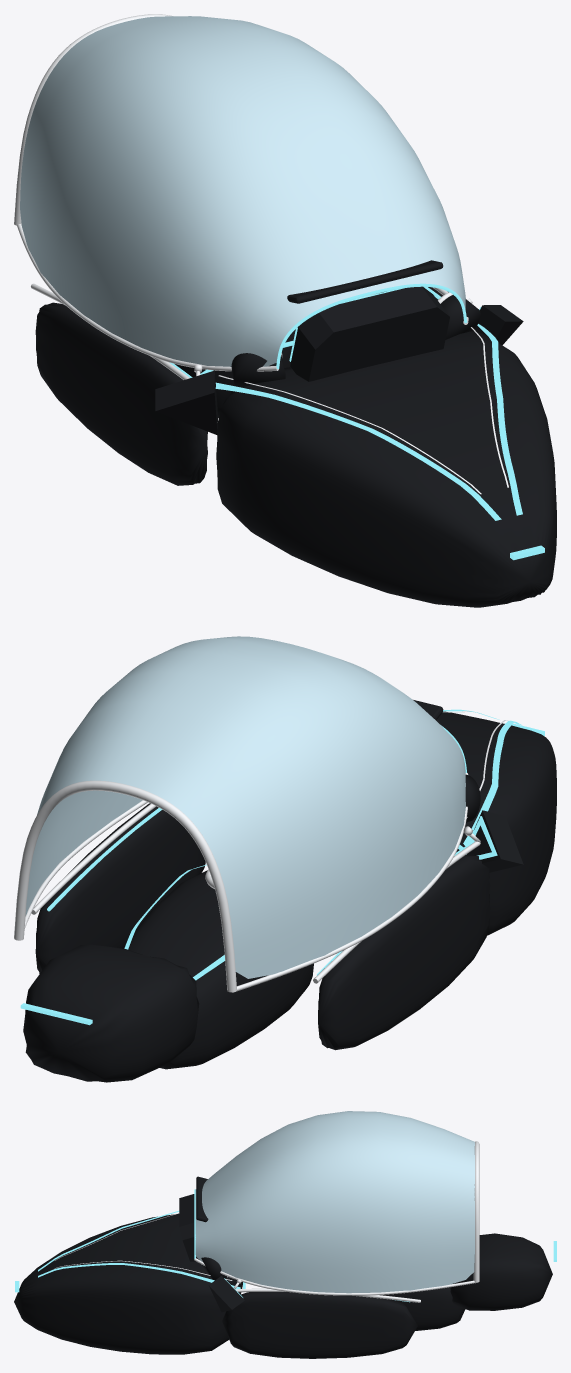
File: cockpit-v3.glb
3 views of the same model, one above another, from view 1: azimuth 30°, elevation 25°; view 2: azimuth 150°, elevation 25°; view 3: azimuth 270°, elevation 25° (orthographic). The views are drawn at different scales.
Visible parts, largest first — view 1: Canopy, Body, Trim, Chrome; view 2: Canopy, Body, Trim, Chrome; view 3: Canopy, Body, Trim, Chrome.
Boxes of the visible parts, bbox=[...] form: Canopy: bbox=[14, 14, 468, 371]; Body: bbox=[35, 260, 556, 607]; Trim: bbox=[169, 286, 544, 560]; Chrome: bbox=[31, 283, 508, 494]; Canopy: bbox=[14, 636, 468, 992]; Body: bbox=[23, 700, 556, 1082]; Trim: bbox=[20, 709, 544, 1025]; Chrome: bbox=[31, 711, 508, 983]; Canopy: bbox=[194, 1111, 479, 1295]; Body: bbox=[14, 1176, 552, 1358]; Trim: bbox=[15, 1211, 556, 1302]; Chrome: bbox=[54, 1213, 420, 1302].
Bounding box in the file's own units: 1.18 × 1.1 × 2.62.
